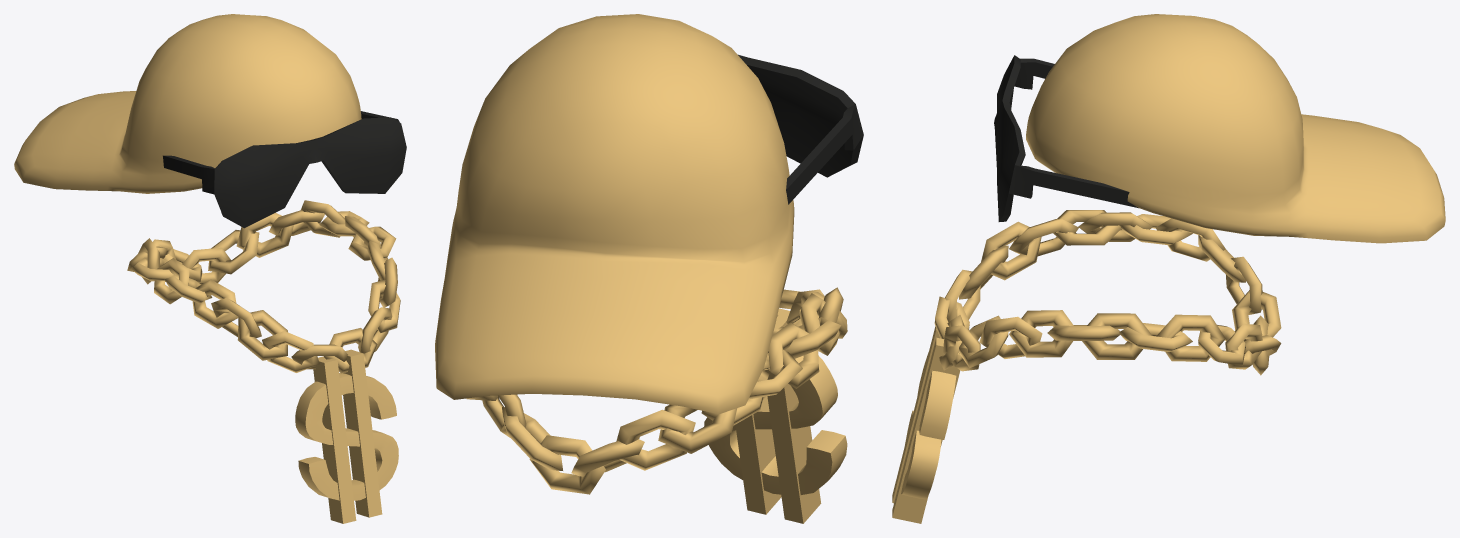
Rendered from Accessory3.fbx.
3 views of the same model, side by side, from view 1: azimuth 30°, elevation 25°; view 2: azimuth 150°, elevation 25°; view 3: azimuth 270°, elevation 25° (orthographic). The views are drawn at different scales.
Visible parts, largest first — view 1: Gangster Accessories; view 2: Gangster Accessories; view 3: Gangster Accessories.
Boxes of the visible parts, left/top/right/bottom form: Gangster Accessories: left=14, top=14, right=406, bottom=523; Gangster Accessories: left=435, top=14, right=863, bottom=523; Gangster Accessories: left=892, top=14, right=1445, bottom=523.
Bounding box in the file's own units: 54.87 × 82.07 × 84.65.
